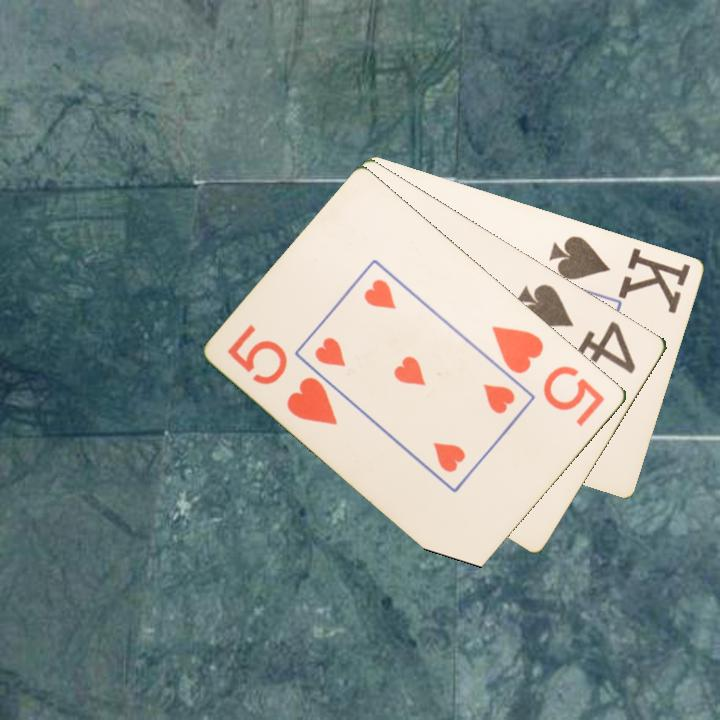4s: (513, 280, 640, 377)
5h: (489, 321, 609, 430), (224, 320, 341, 429)
Ks: (546, 232, 694, 315)
